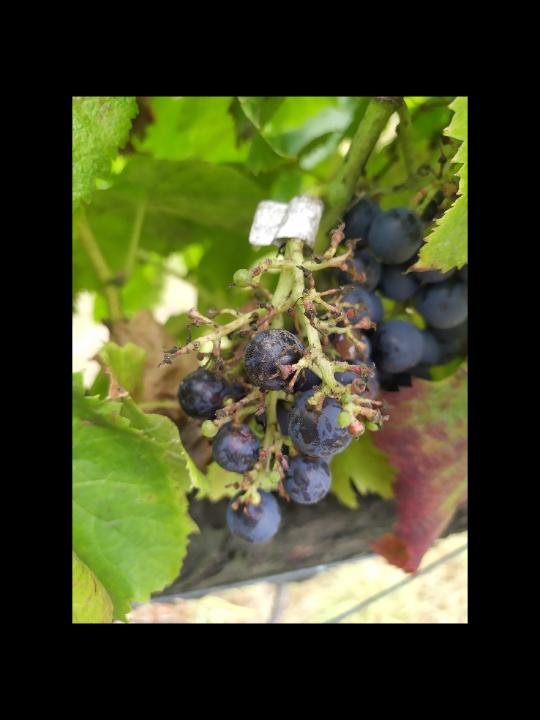grape: (155, 219, 397, 547)
